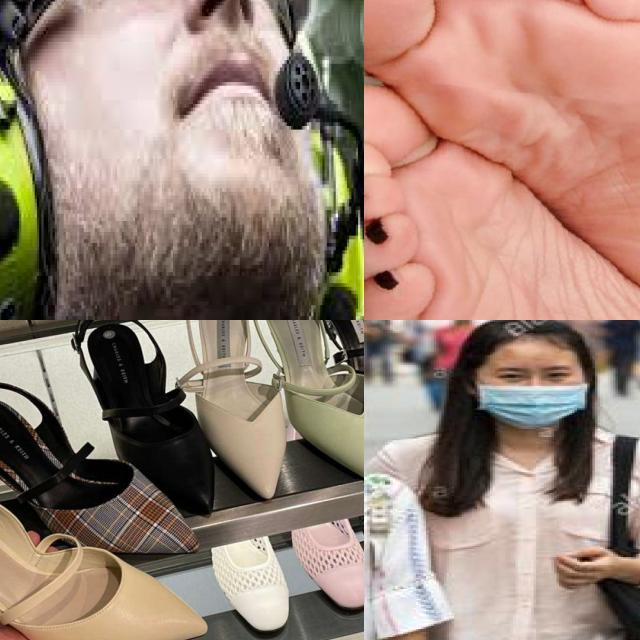Barefoots: (364, 0, 640, 291), (364, 78, 640, 320)
Ear-protection: (0, 56, 52, 320), (302, 118, 364, 320)
Sandals: (0, 364, 228, 573), (55, 320, 228, 532), (0, 467, 208, 640), (161, 320, 301, 520), (243, 320, 364, 507), (303, 320, 364, 478)
face_mask: (472, 360, 590, 428)
glasses: (16, 0, 295, 49)
hand_noglove: (541, 542, 618, 590)
head_nohelmet: (472, 320, 584, 362)
person: (410, 320, 640, 640), (364, 320, 451, 640)
